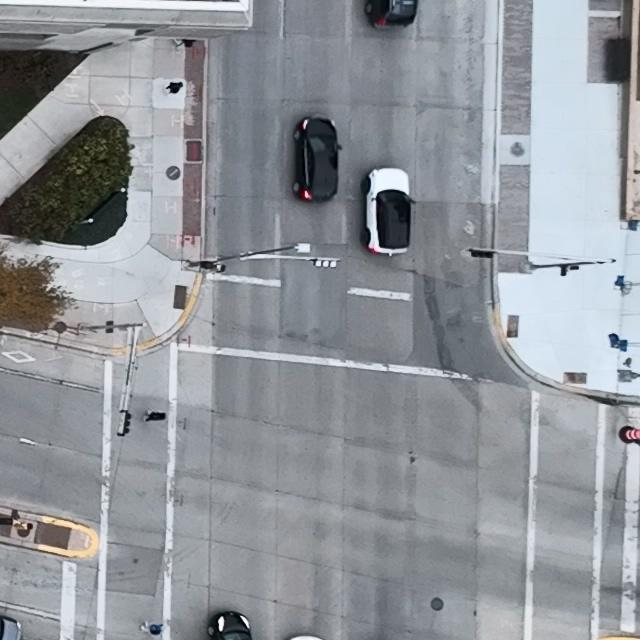car: (361, 167, 416, 256), (293, 117, 342, 204), (365, 0, 418, 29), (208, 612, 252, 640)
